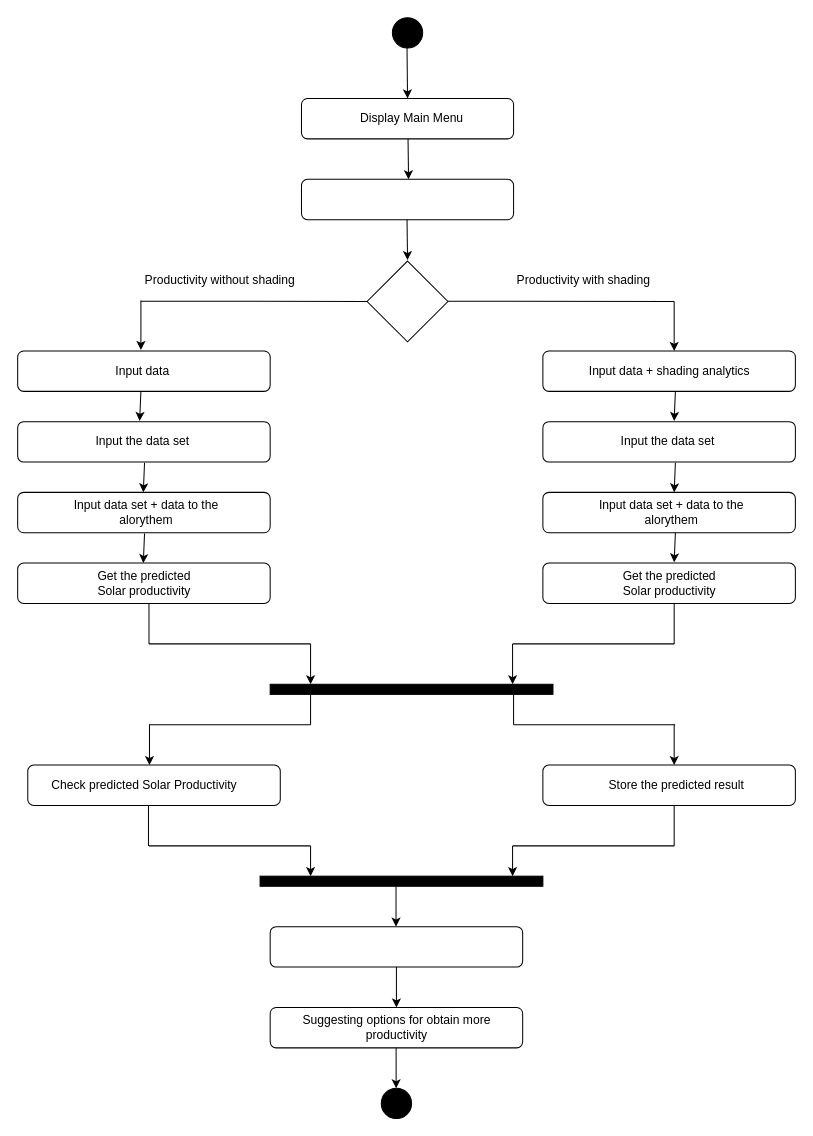
Image size: 813x1136. Some labels were removed from this diagram. Each missing label, with the centre of its shape:
Build a consistency report: the point at 396,946
User Log in: the point at 407,199
